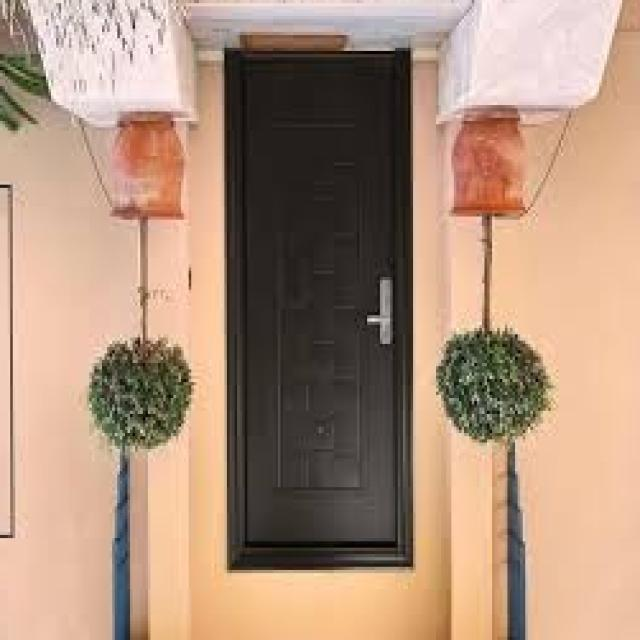door: (226, 48, 412, 570)
